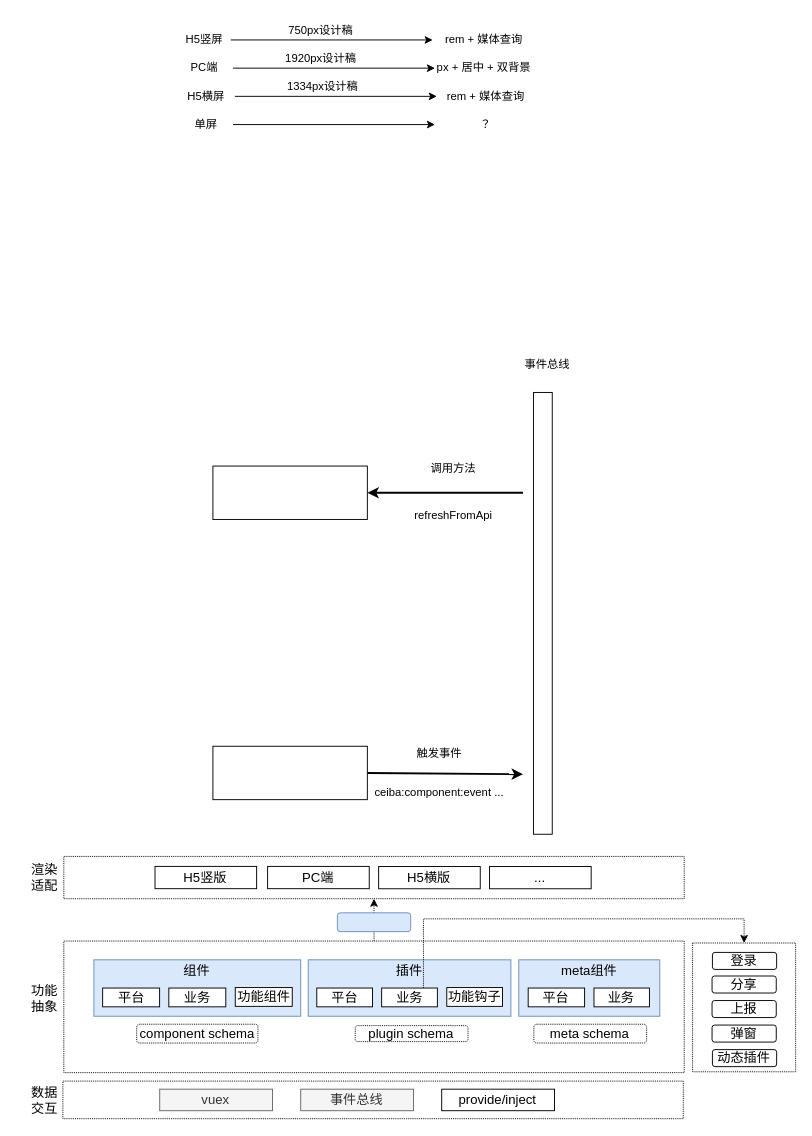
Some shapes in this 812 by 1136 pixel diagram are drawn without their labels. The centre of each missing label's shape, as x and y in pixels:
"ceiba-ui" goes at (x=373, y=922).
"剩余量组件" goes at (x=289, y=492).
"领奖组件" goes at (x=289, y=772).
